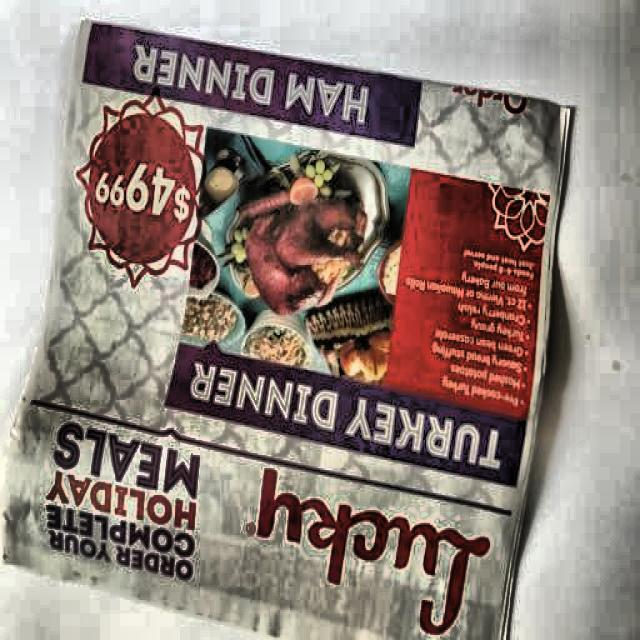paper: (44, 18, 522, 640)
